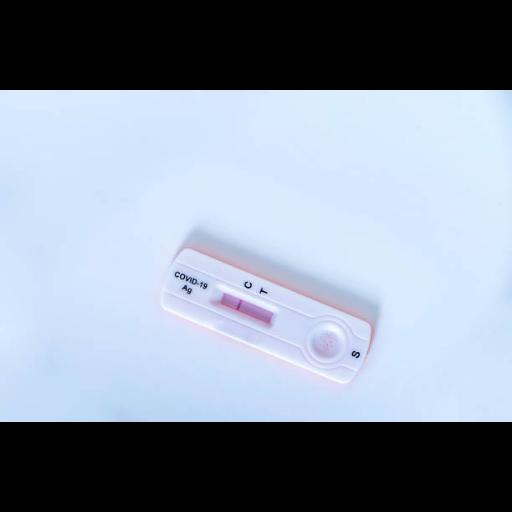Neg: (156, 246, 374, 386)
